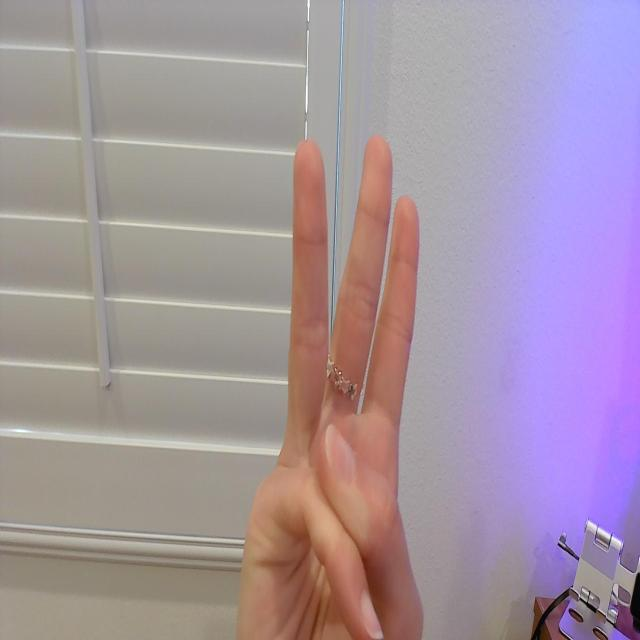W: (243, 125, 426, 640)
